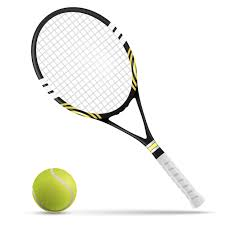tennis racket: (30, 6, 206, 212)
